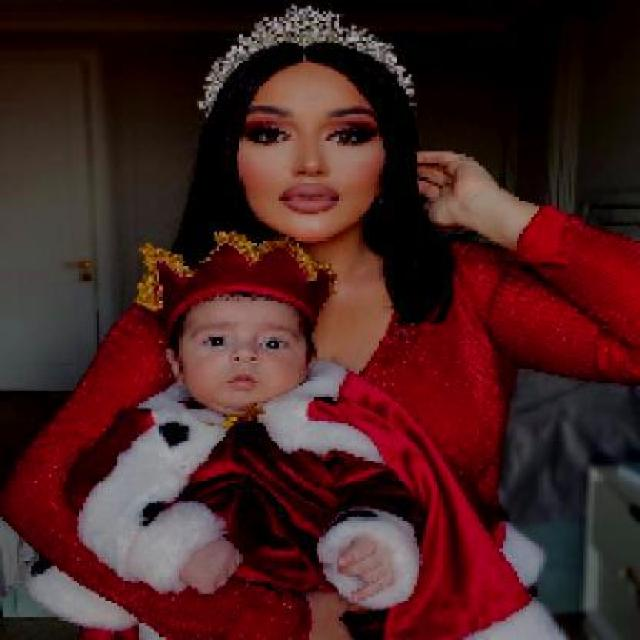child: (63, 292, 423, 608)
